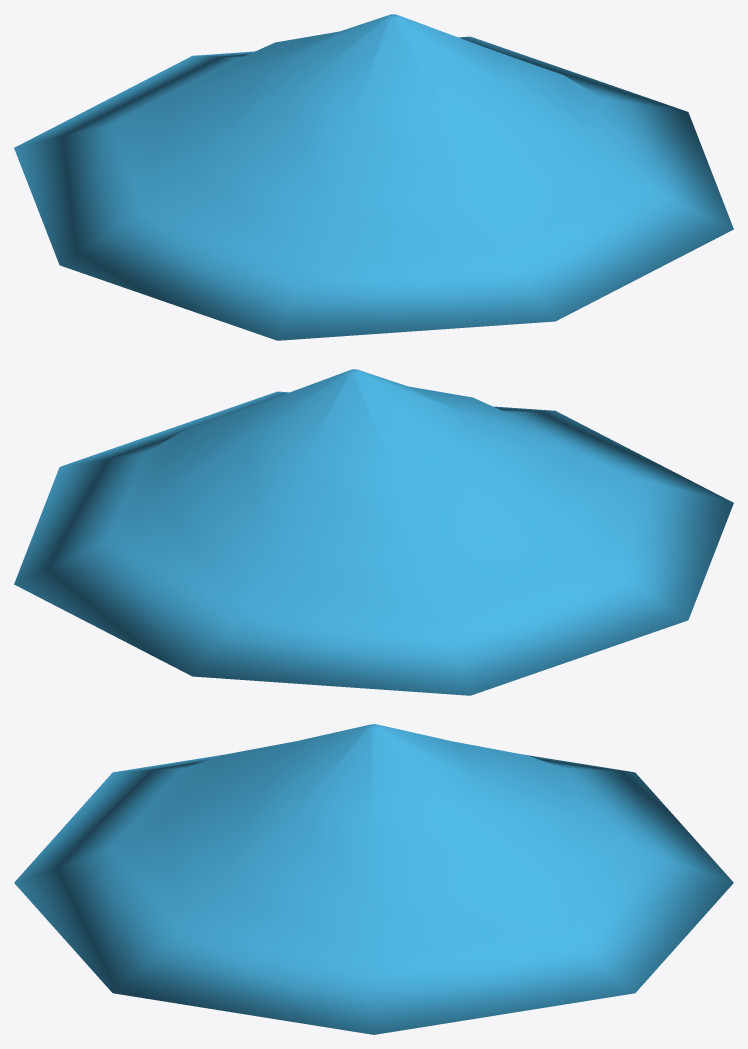
File: PixieDust.glb
3 renders of one model, top to bottom at view 1: azimuth 30°, elevation 25°; view 2: azimuth 150°, elevation 25°; view 3: azimuth 270°, elevation 25°, orthographic.
Parts seen in each view (by area): view 1: PixieDust; view 2: PixieDust; view 3: PixieDust.
Boxes of the visible parts, x1,y1,x2,y2 form: PixieDust: [14, 14, 733, 340]; PixieDust: [14, 369, 733, 695]; PixieDust: [14, 724, 733, 1034].
Size of the model in its own units: 1.46 by 0.3707 by 1.46.
